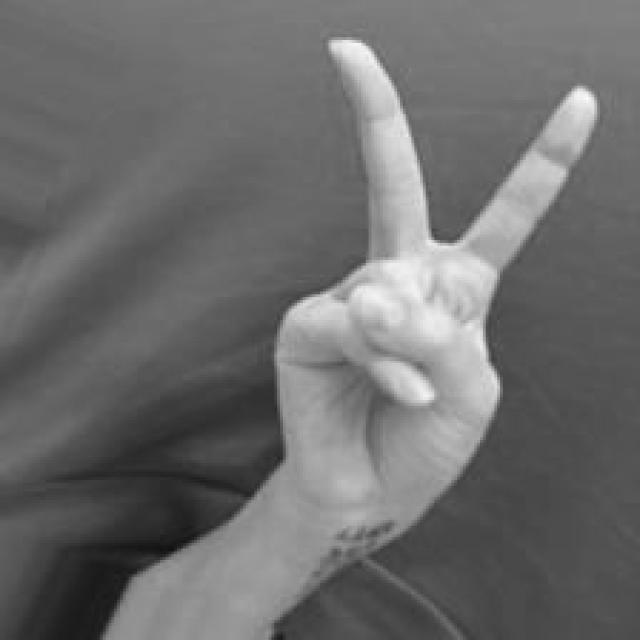V: (268, 38, 602, 556)
